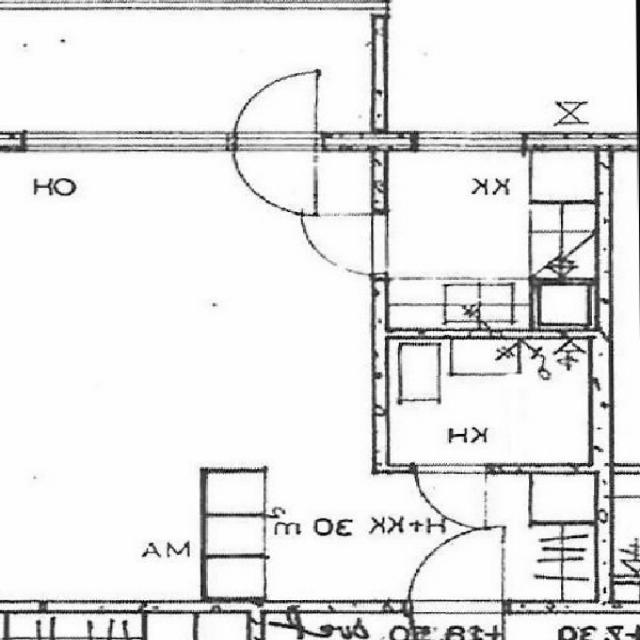door: (409, 525, 504, 612), (236, 132, 316, 214), (236, 68, 316, 150), (300, 214, 387, 272), (417, 464, 484, 527), (409, 600, 504, 640)
